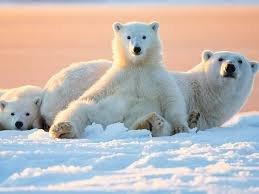bear: (43, 49, 259, 130), (50, 21, 191, 139), (0, 85, 43, 134)
